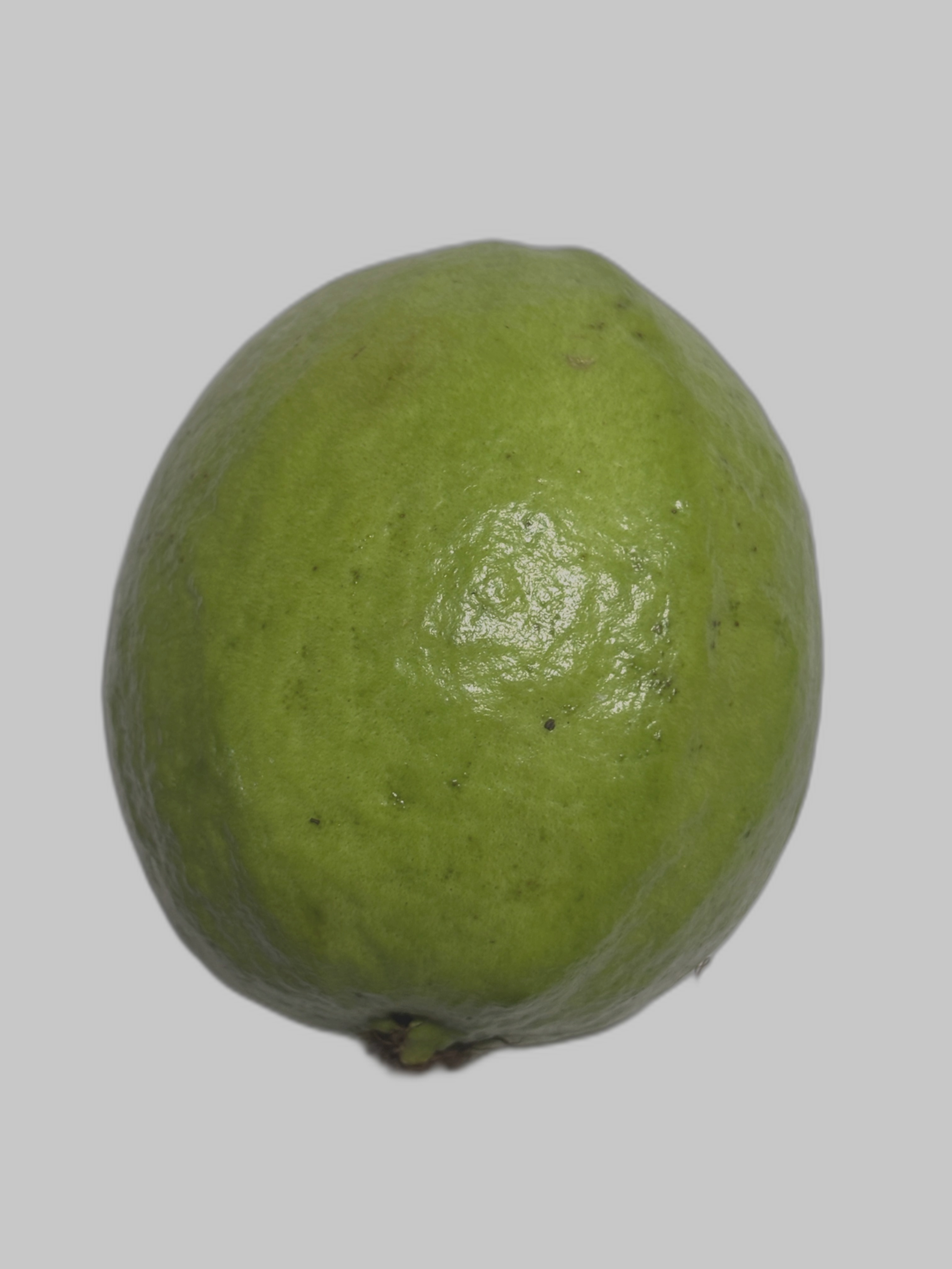guava: (0, 154, 851, 982)
